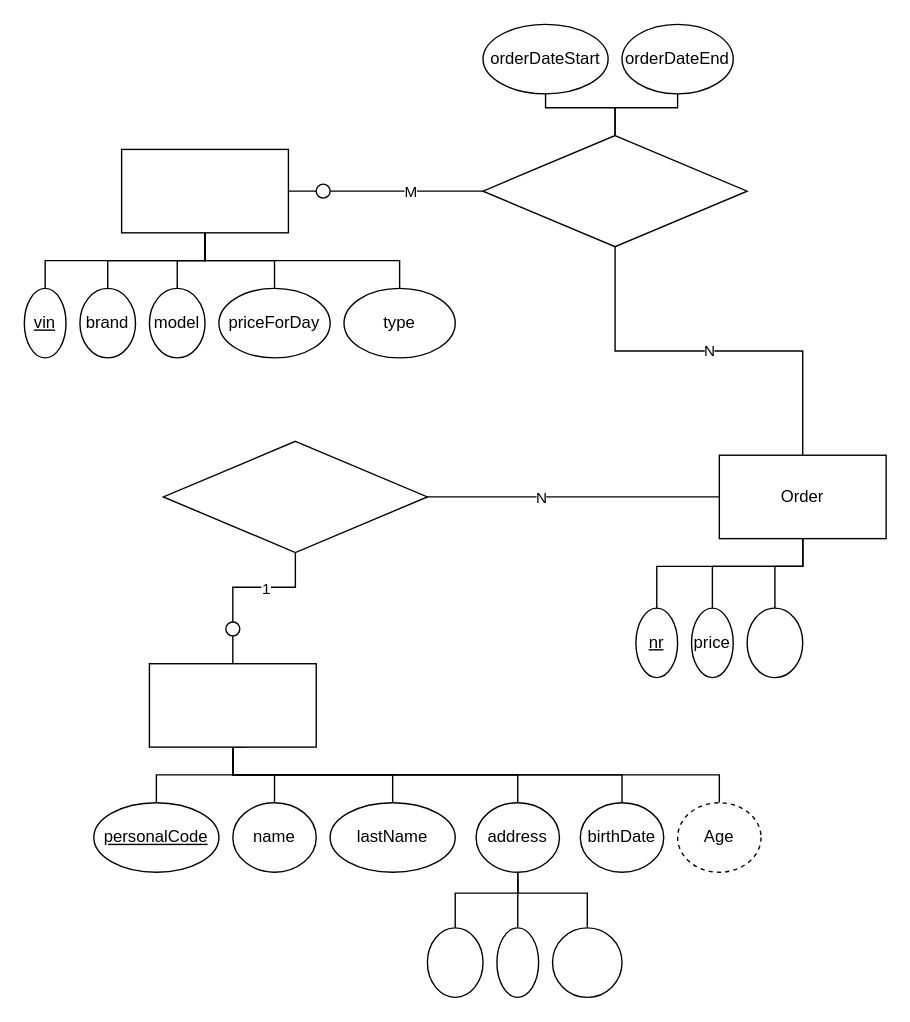
The diagram is 910 pixels wide and 1022 high, and some of its shapes have lost their labels. Each missing label, with the box of its shape:
Car: (120, 148, 288, 233)
city: (496, 926, 539, 997)
Client: (148, 662, 316, 747)
clientOrder: (162, 440, 427, 553)
orderCar: (482, 134, 747, 247)
status: (746, 607, 803, 678)
street: (426, 926, 483, 997)
zipCode: (551, 926, 622, 997)
